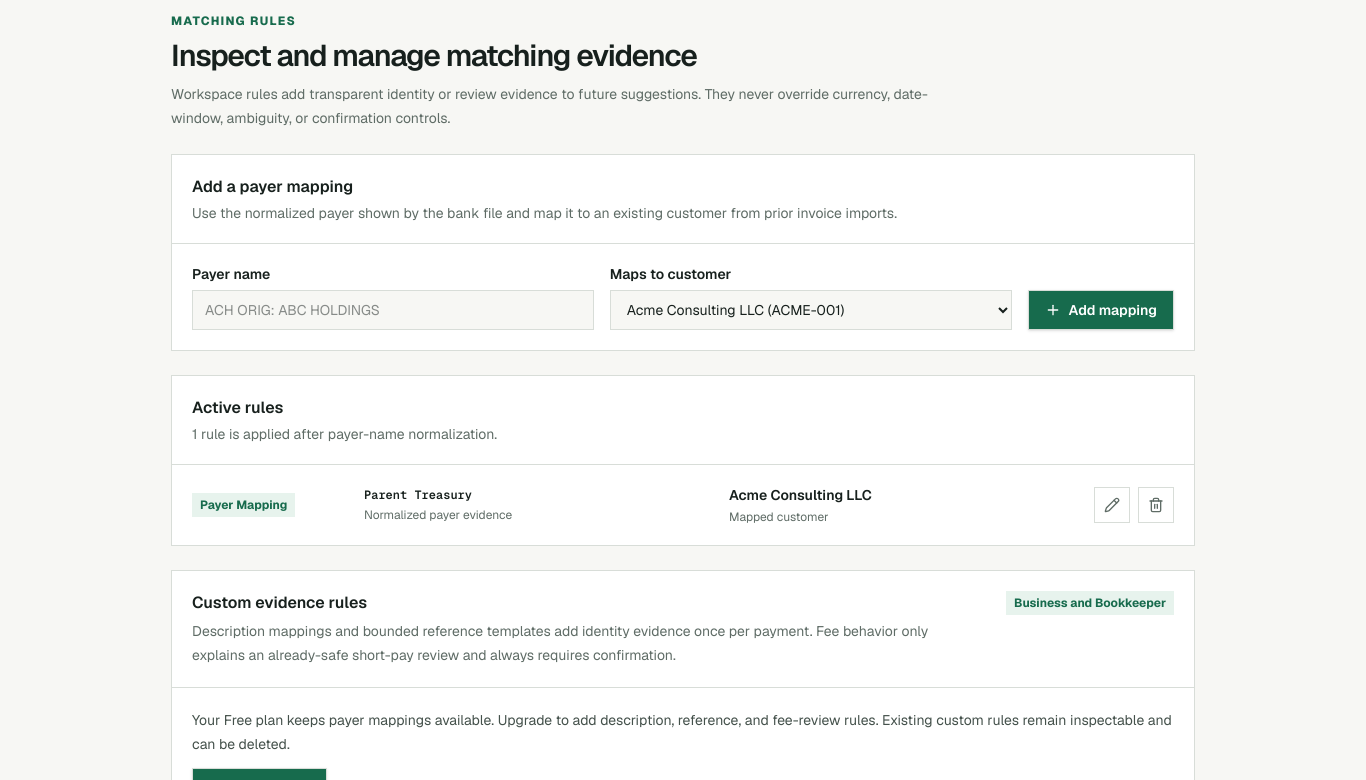
Test: RulesPanel › edits a live payer mapping through the audited workspace route
The width and height of the screenshot is (1366, 780).
Click the button named "Edit rule Parent Treasury".
click(1112, 505)  # box left=1094, top=487, right=1130, bottom=523
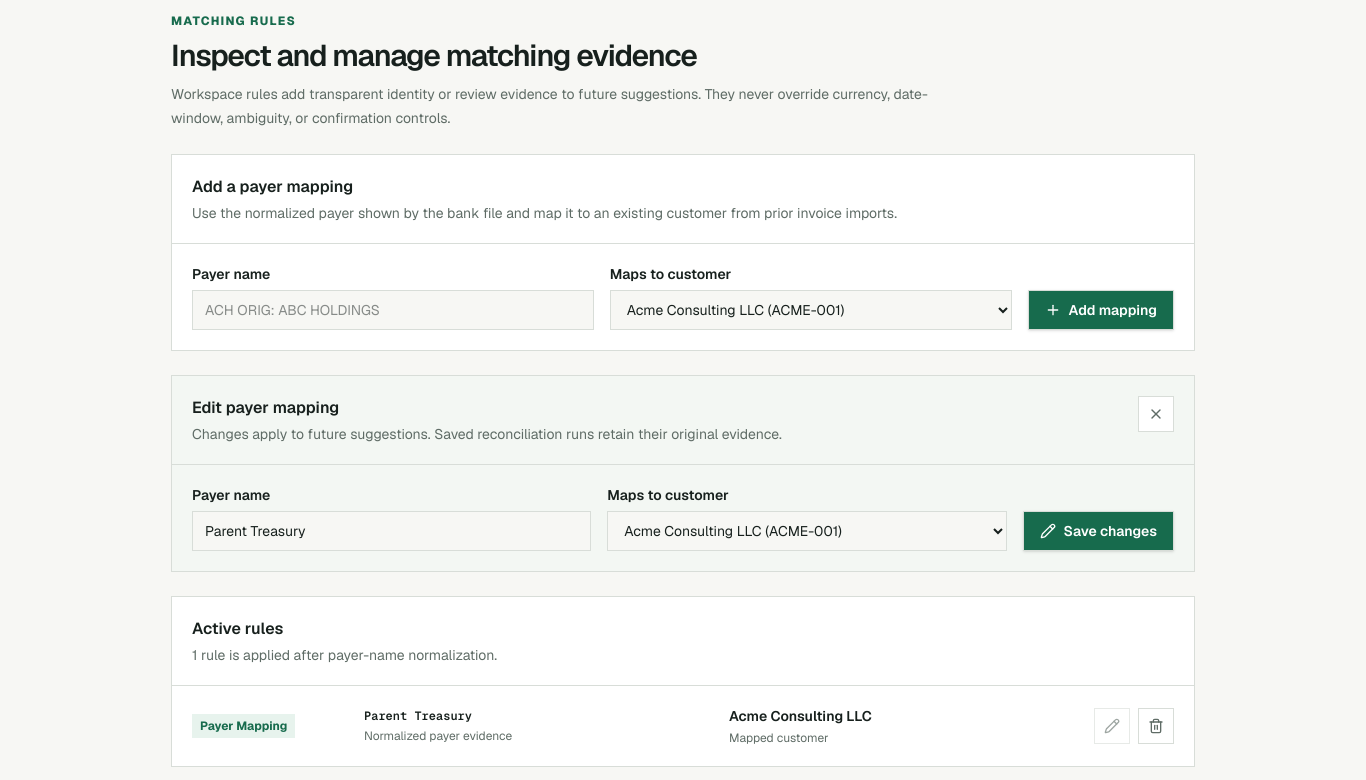
Replace the text in the field labelled "Payer name" below "Edit payer mapping" with "Updated Treasury" at (392, 531), box left=192, top=511, right=591, bottom=551
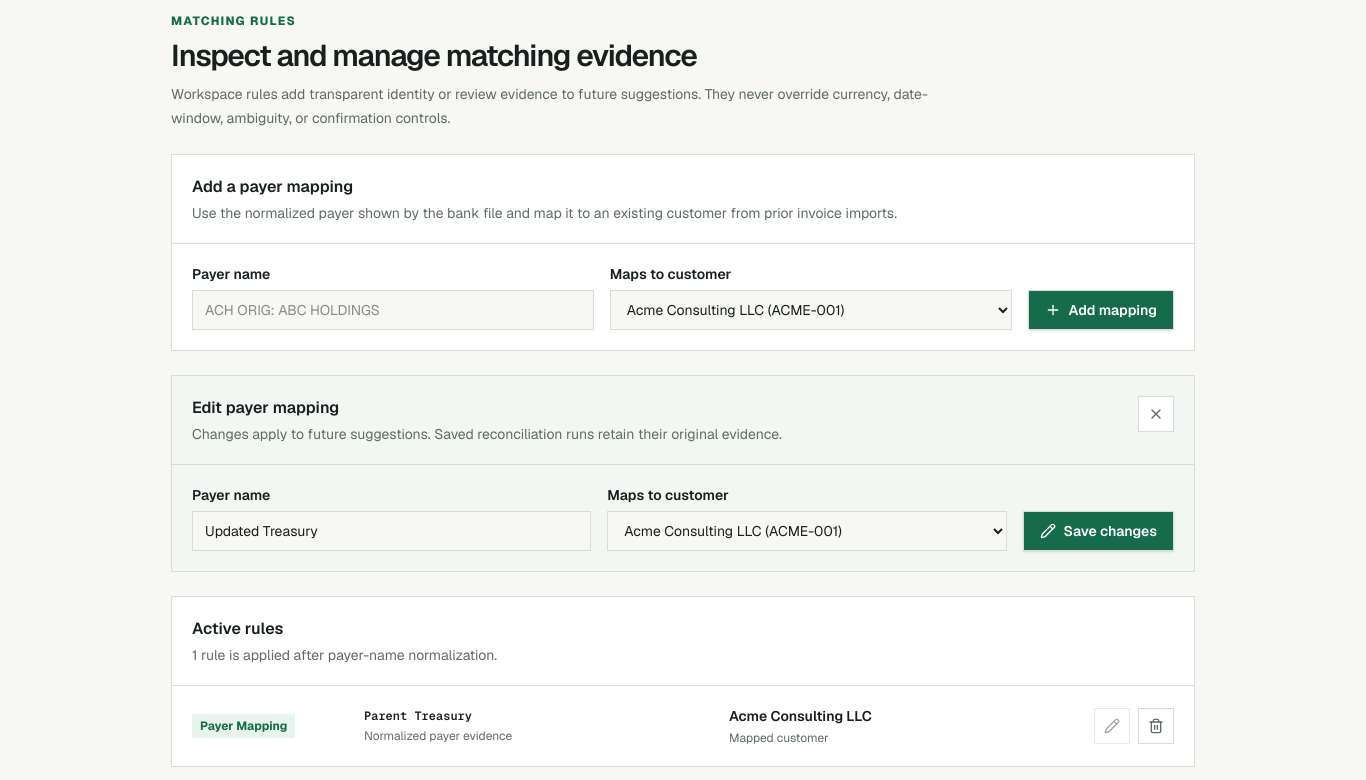
Click the button "Save changes".
click(1098, 531)  # box left=1022, top=511, right=1174, bottom=551
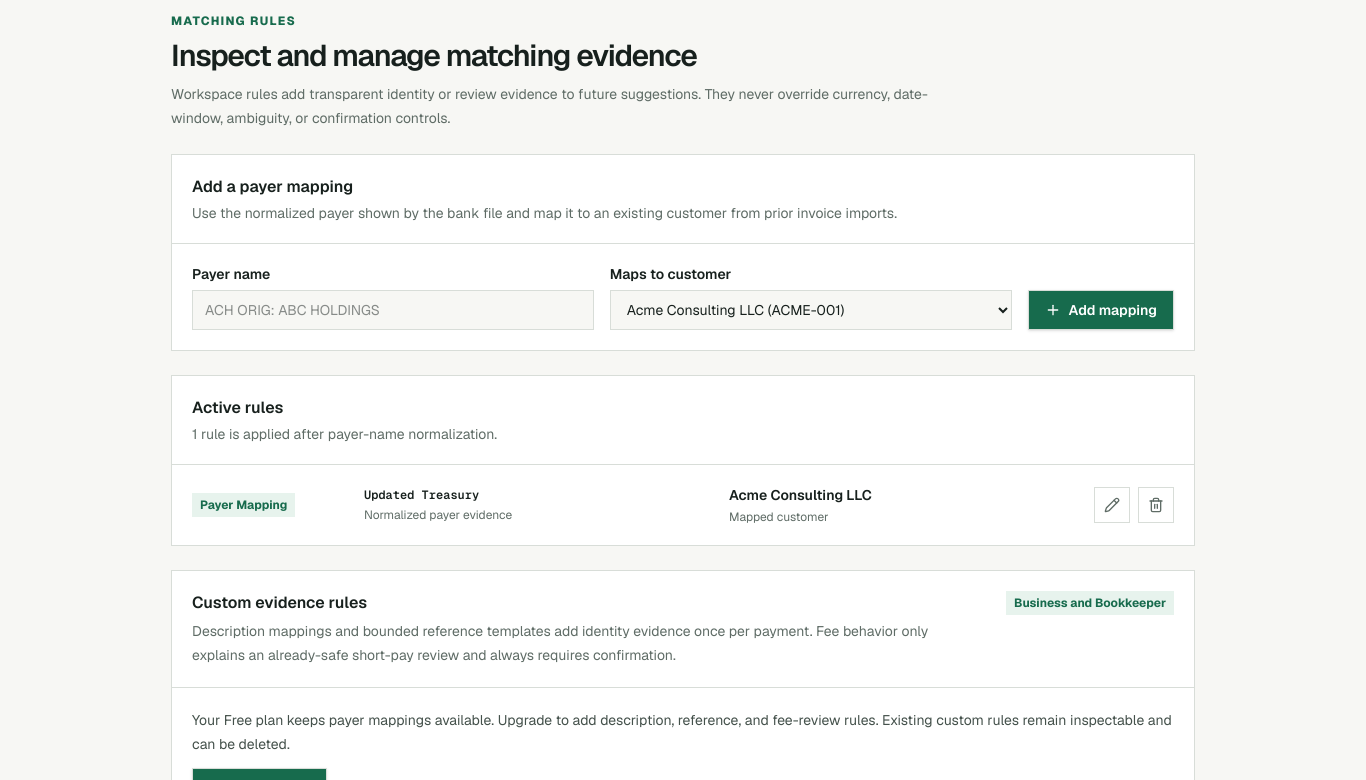
Expected: the text "Updated Treasury" is shown, left=364, top=487, right=479, bottom=503
